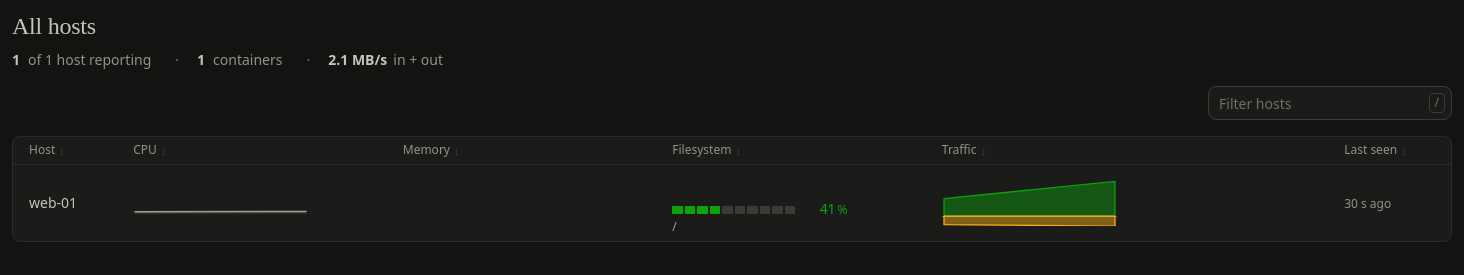
Test: FleetPage stat figures as controls › switches to the containers list when the Containers figure is clicked
Check: the search field with placeholder "Filter hosts" is shown, box [1208,86,1452,120]
Step 1. Click the link "1 containers" → click(240, 60), box [197,49,282,70]
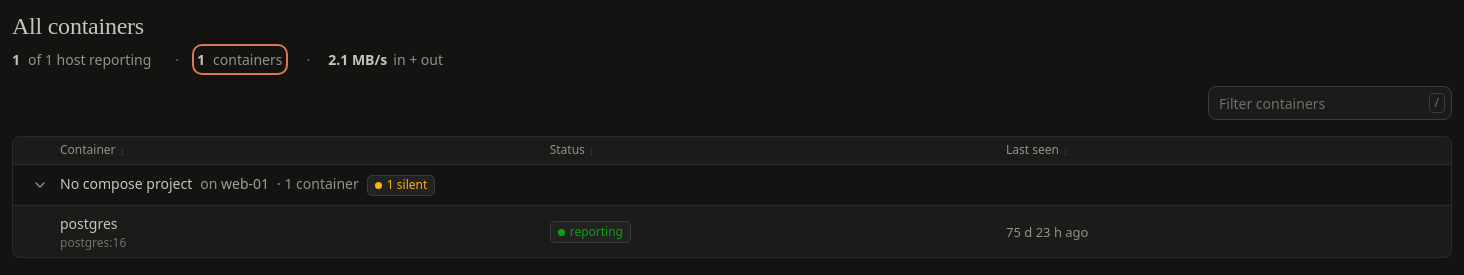
Check: the search field with placeholder "Filter containers" is shown, box [1208,86,1452,120]
